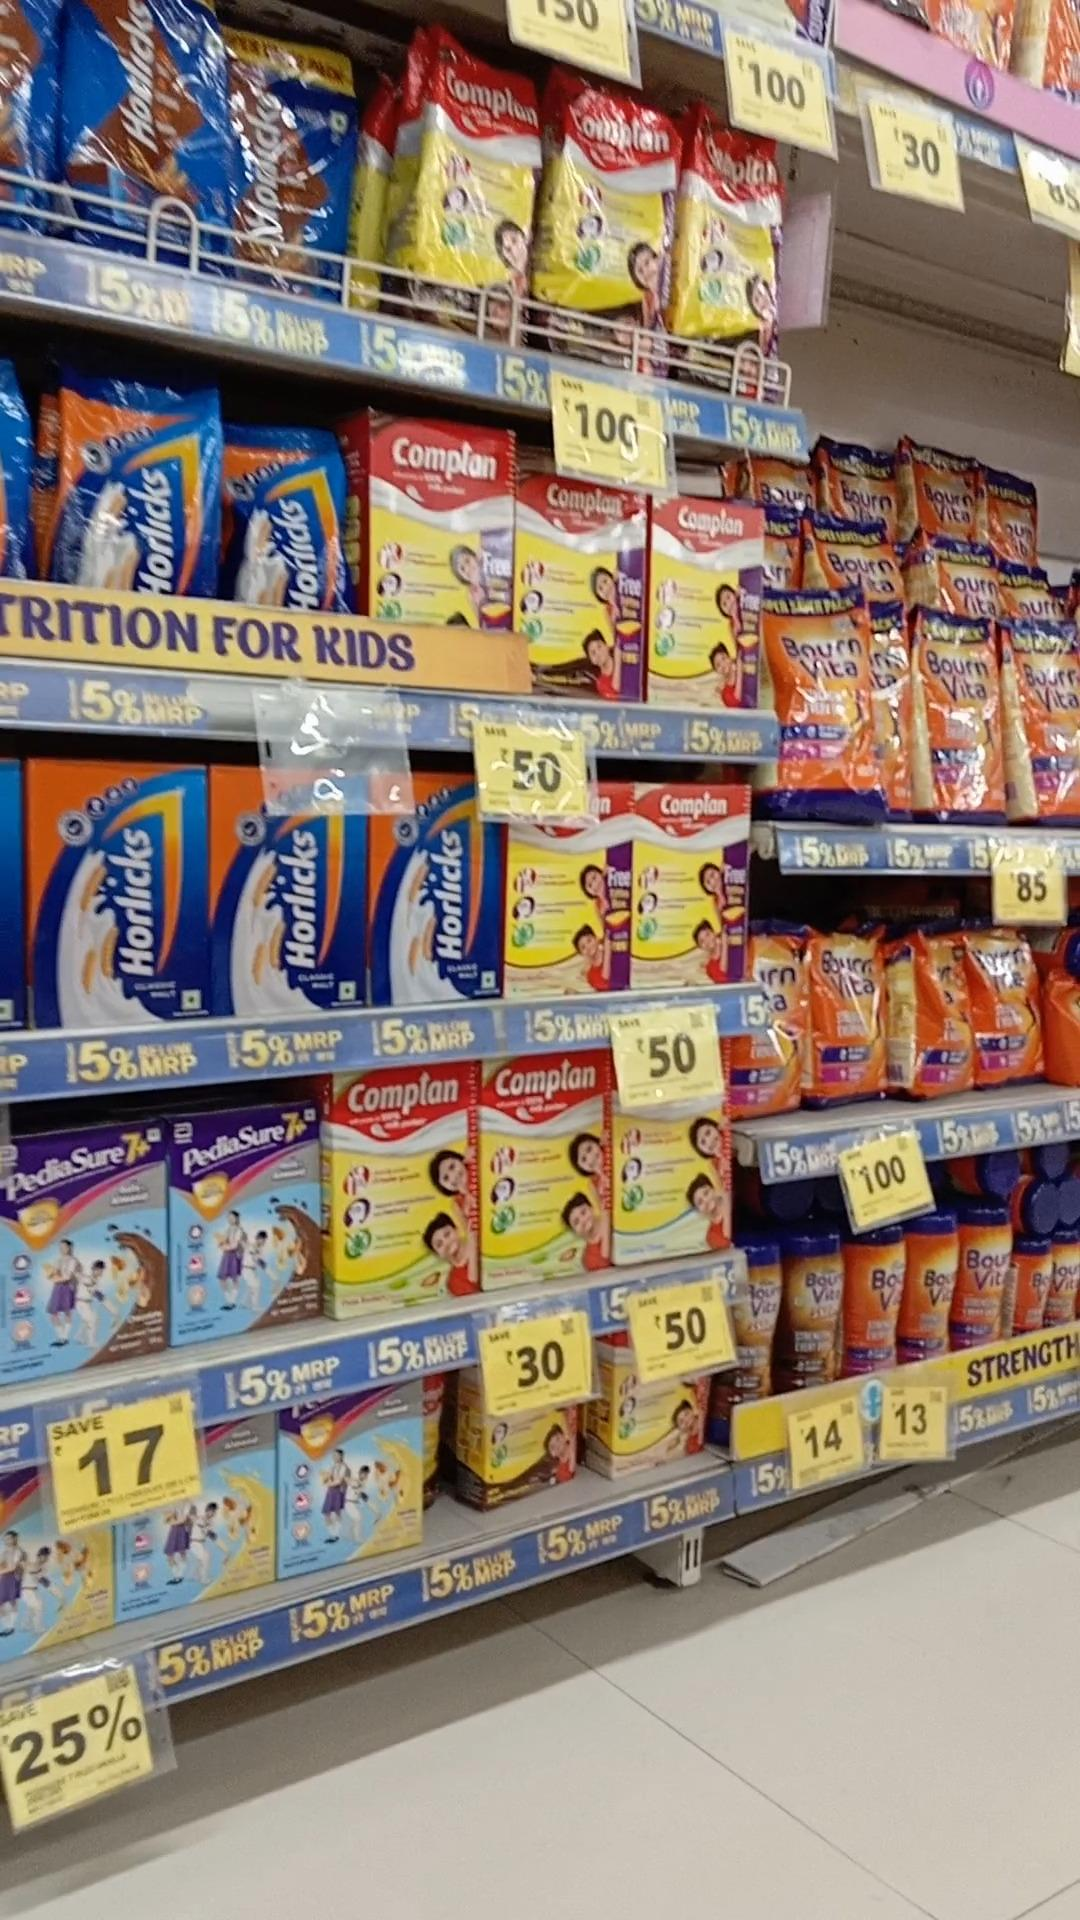BOURN_VITA_1_KG_POUCH: (769, 588, 881, 824), (923, 605, 1005, 828), (1011, 624, 1080, 823), (825, 433, 895, 524), (914, 444, 977, 533), (927, 541, 1006, 609), (820, 525, 902, 588)
BOURN_VITA_200_G_JAR: (1015, 1240, 1051, 1338), (1051, 1233, 1080, 1324)
BOURN_VITA_500_G_JAR: (849, 1232, 907, 1374), (959, 1209, 1010, 1358), (909, 1211, 957, 1366)
BOURN_VITA_500_G_POUCH: (972, 926, 1047, 1092), (818, 930, 886, 1109), (752, 927, 811, 1118), (919, 913, 971, 1098)
BOURN_VITA_FIVE_STAR_MAGIC_500_G_JAR: (737, 1241, 790, 1407), (794, 1234, 845, 1394)
COMPLAN_CHOCOLATE_1_KG_PACK: (369, 411, 509, 624)
COMPLAN_CHOCOLATE_500_GMS_PACK: (514, 465, 645, 700)
COMPLAN_KESAR_BADAM_500_GMS_PACK: (506, 800, 628, 997), (638, 785, 749, 985), (651, 497, 757, 703)
COMPLAN_PISTA_BADAM_500_GMS_PACK: (331, 1073, 477, 1312), (480, 1055, 612, 1283)
COMPLAN_RC_POUCH_700_GMS_12: (542, 63, 671, 368), (413, 30, 533, 326), (682, 108, 794, 397)
HORLICK_CHOCOLATE_750_G_POUCH: (67, 3, 210, 261), (224, 25, 351, 293), (59, 378, 206, 592), (222, 423, 342, 616)
HORLICK_CLASSIC_MALT_500_G_PACK: (25, 760, 203, 1026), (212, 766, 367, 1013), (371, 771, 496, 997)
PEDIASURE_7_PLUS_CHOCOLATE_400_G_PACK: (0, 1131, 166, 1370), (169, 1113, 316, 1338)
